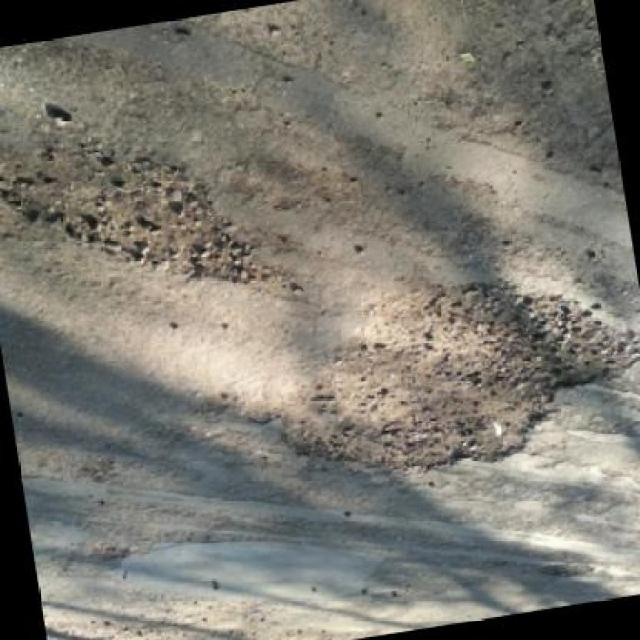pothole: (240, 250, 638, 504), (0, 108, 283, 328)
